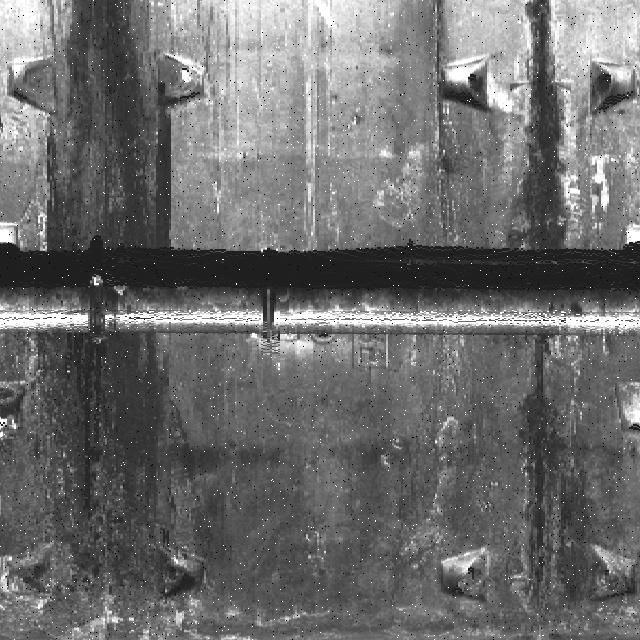leakage: (0, 332, 179, 640), (21, 3, 175, 254), (492, 337, 571, 628), (505, 1, 579, 254)
